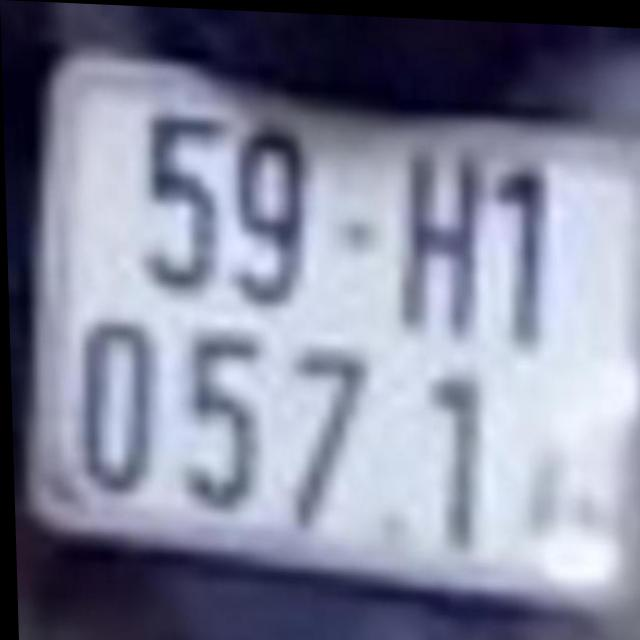0: (76, 313, 154, 509)
1: (424, 341, 481, 540), (497, 138, 547, 348)
5: (147, 106, 220, 296), (192, 324, 262, 501)
7: (286, 337, 373, 536)
9: (230, 127, 302, 309)
H: (392, 137, 479, 331)
